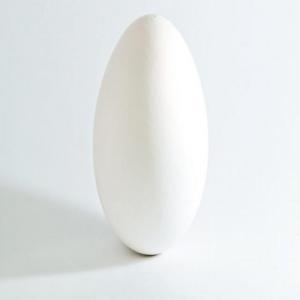Egg: (88, 6, 219, 269)
